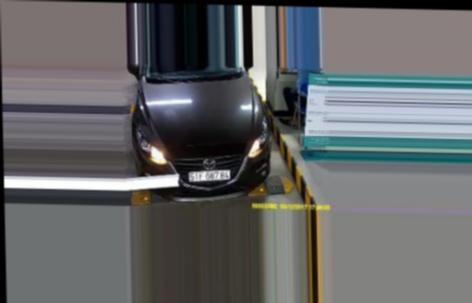License_Plate: (188, 167, 235, 186)
